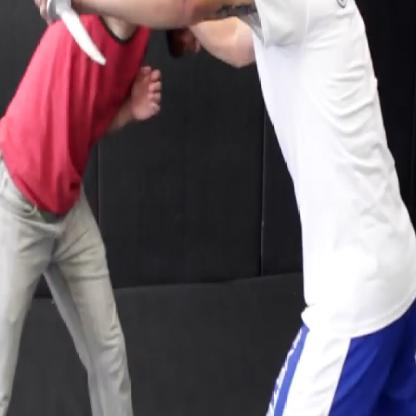knife: (21, 0, 112, 81)
